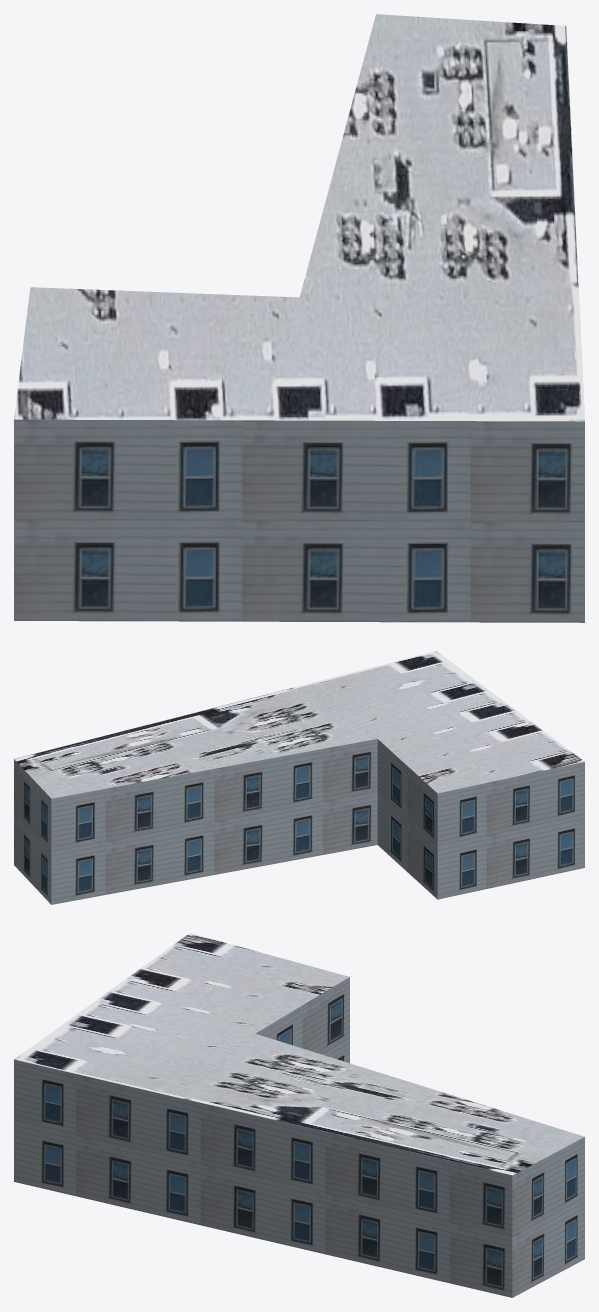
Rendered from ResTex__3323.fbx.
3 renders of one model, top to bottom at view 1: azimuth 30°, elevation 25°; view 2: azimuth 150°, elevation 25°; view 3: azimuth 270°, elevation 25°, orthographic. The views are drawn at different scales.
Parts seen in each view (by area): view 1: CityEngineMaterial_m, CityEngineMaterial_18_m; view 2: CityEngineMaterial_18_m, CityEngineMaterial_m; view 3: CityEngineMaterial_18_m, CityEngineMaterial_m.
Part boxes in pixels (bbox=[...]): CityEngineMaterial_m: bbox=[14, 14, 584, 421]; CityEngineMaterial_18_m: bbox=[14, 419, 584, 622]; CityEngineMaterial_18_m: bbox=[14, 739, 584, 904]; CityEngineMaterial_m: bbox=[14, 651, 584, 798]; CityEngineMaterial_18_m: bbox=[14, 977, 584, 1297]; CityEngineMaterial_m: bbox=[14, 933, 584, 1175].
Bounding box in the file's own units: 25.5 × 6 × 25.37.
Materials: 2 (2 with a texture image).
